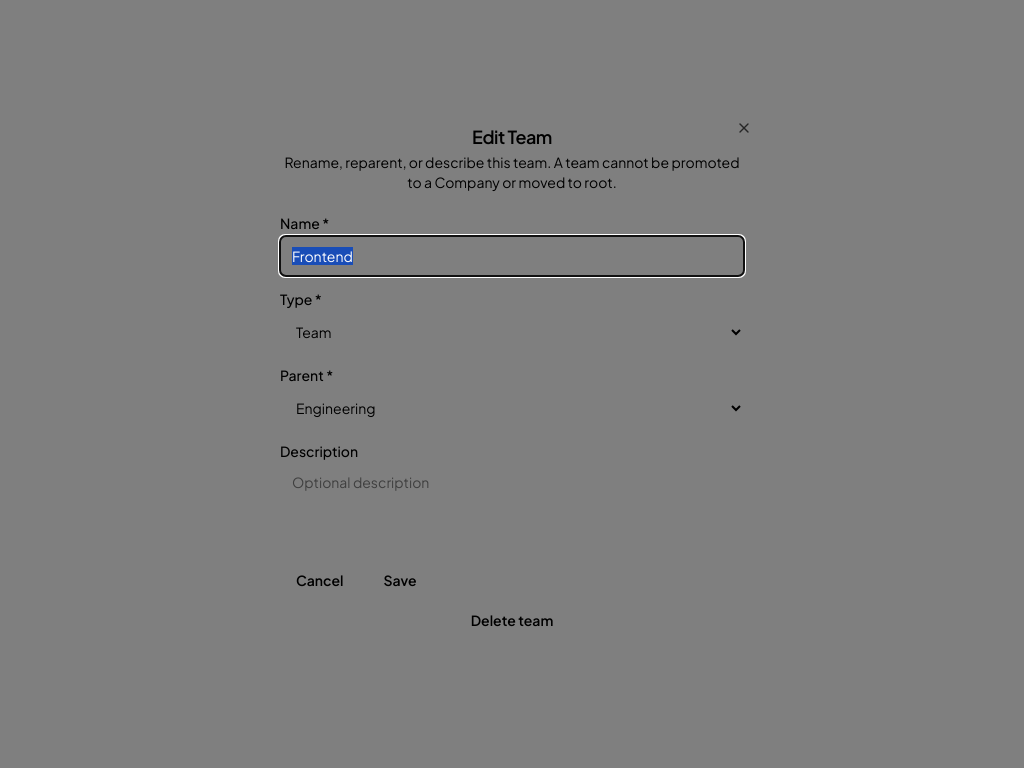
Scenario: EditTeamModal › (7) delete 409 children shows inline error; modal stays open
Step 1. Click the button "Delete team" → (512, 620), box [280,600,744,640]
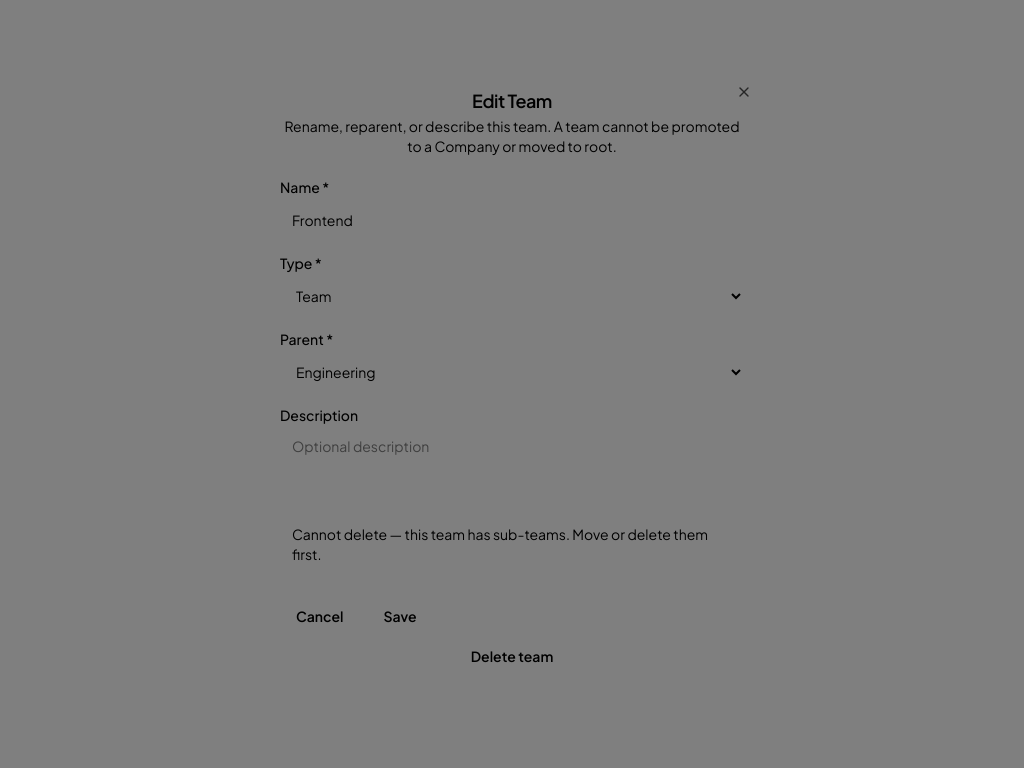
Check: the message reads "Cannot delete — this team has sub-teams. Move or delete them first.", box [292,525,708,563]
